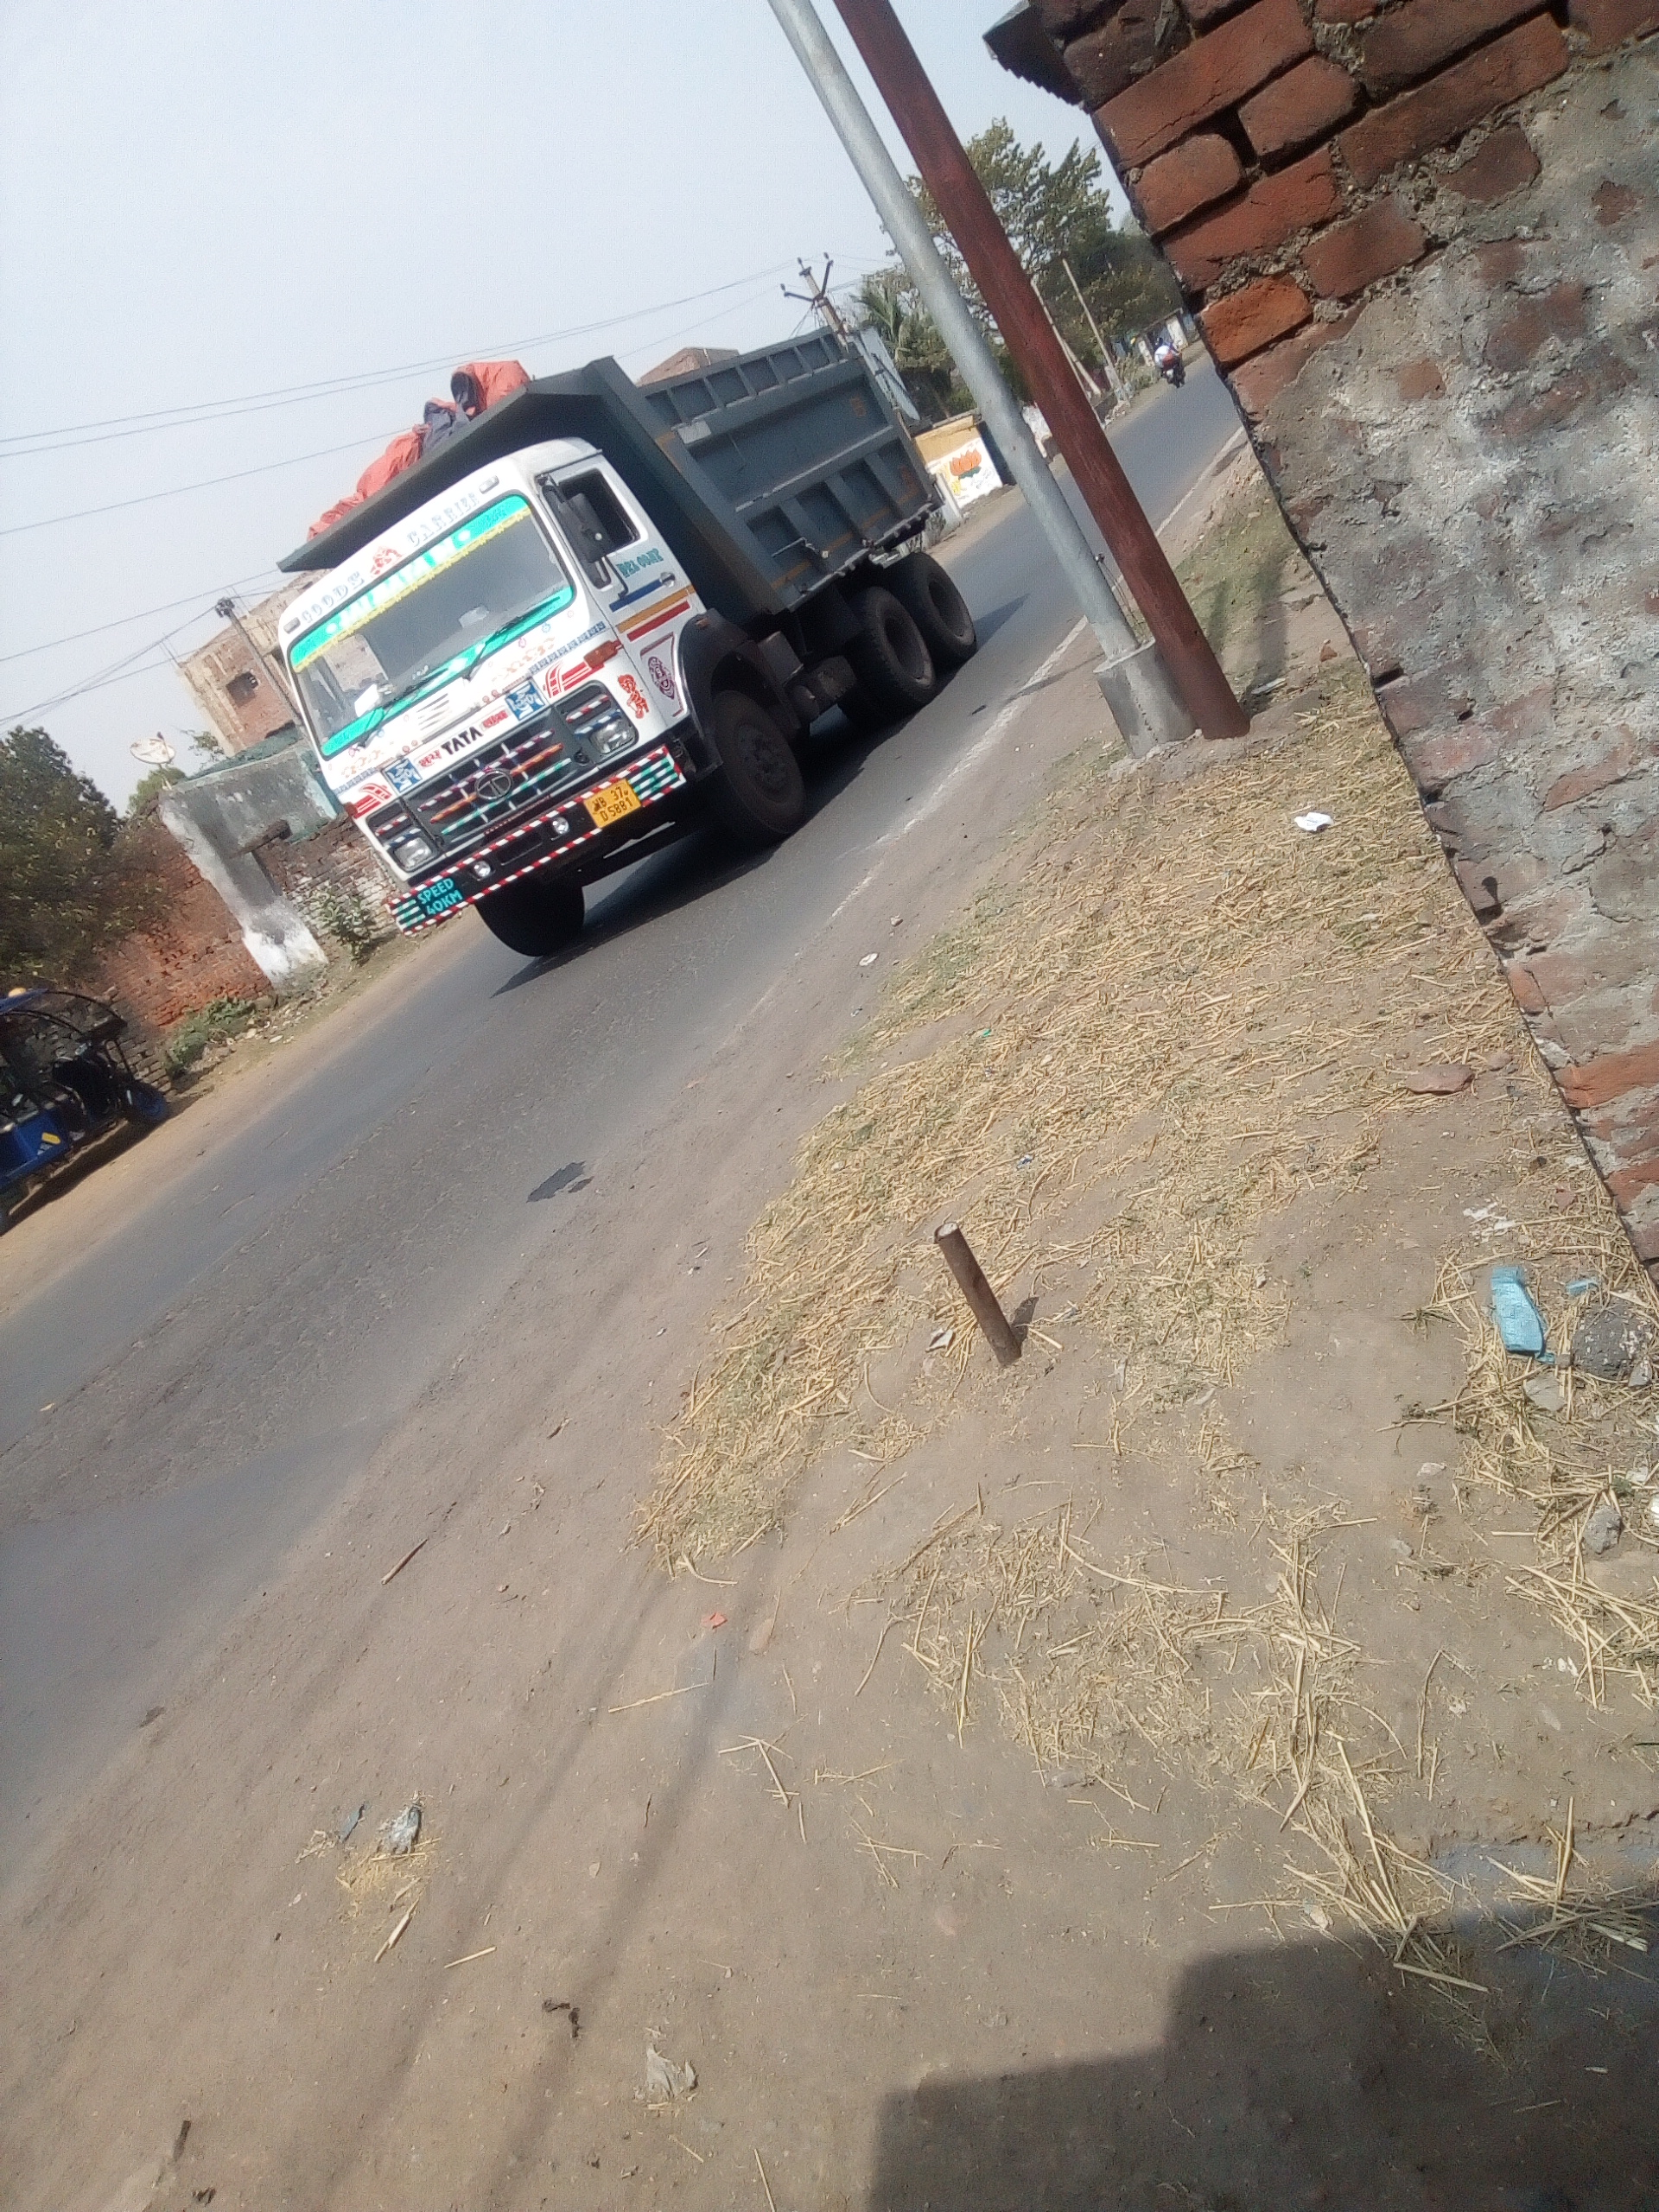truck: (274, 324, 981, 958)
